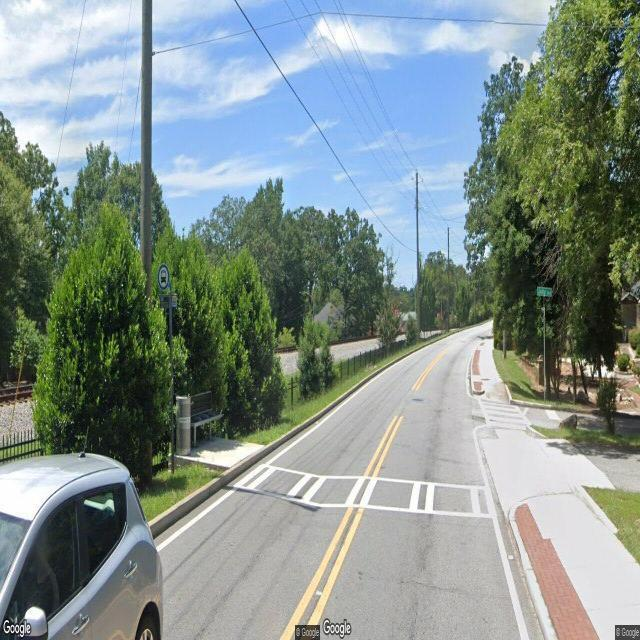seating: (190, 390, 224, 448)
trash_can: (176, 395, 190, 456)
